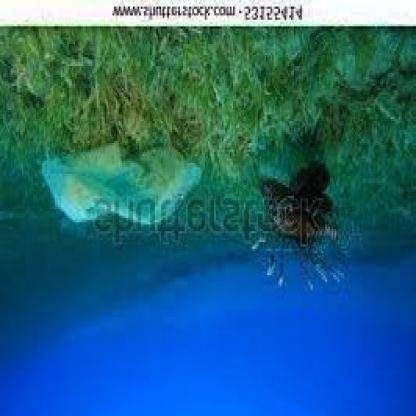pbag: (41, 144, 202, 224)
